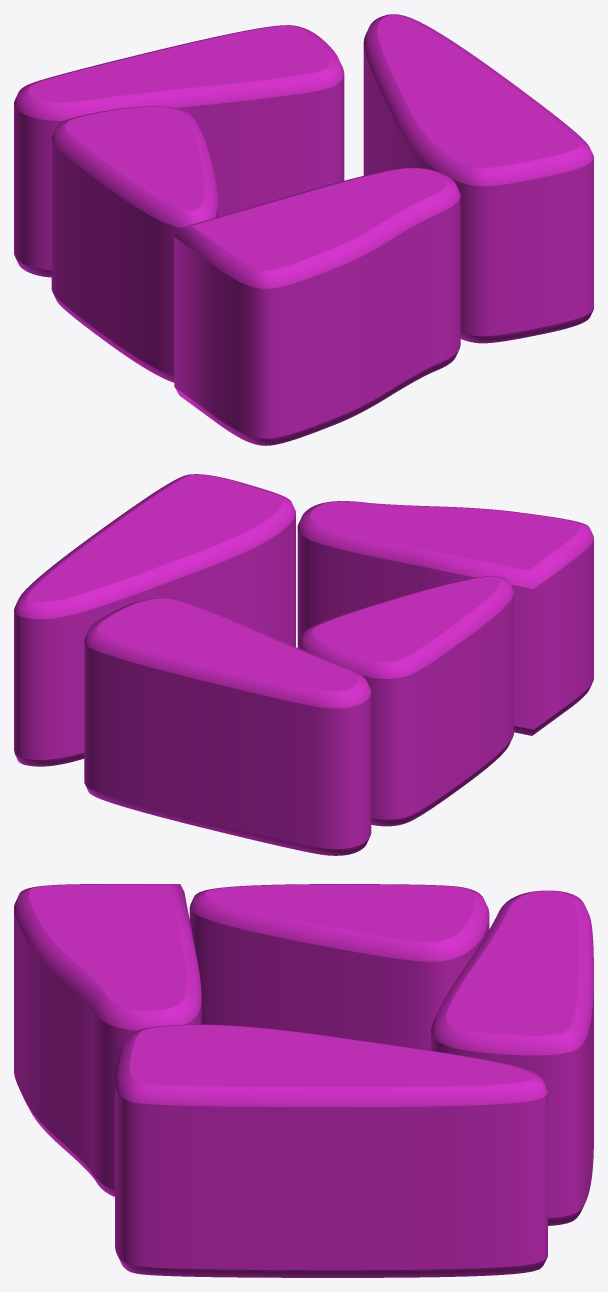
Rendered from Letter_o_Small.fbx.
3 views of the same model, one above another, from view 1: azimuth 30°, elevation 25°; view 2: azimuth 150°, elevation 25°; view 3: azimuth 270°, elevation 25° (orthographic). The views are drawn at different scales.
Visible parts, largest first — view 1: Letter_o; view 2: Letter_o; view 3: Letter_o.
Boxes of the visible parts, left/top/right/bottom form: Letter_o: left=14, top=14, right=593, bottom=445; Letter_o: left=14, top=474, right=593, bottom=855; Letter_o: left=14, top=884, right=593, bottom=1277.
Bounding box in the file's own units: 0.3396 × 0.14 × 0.3867.
